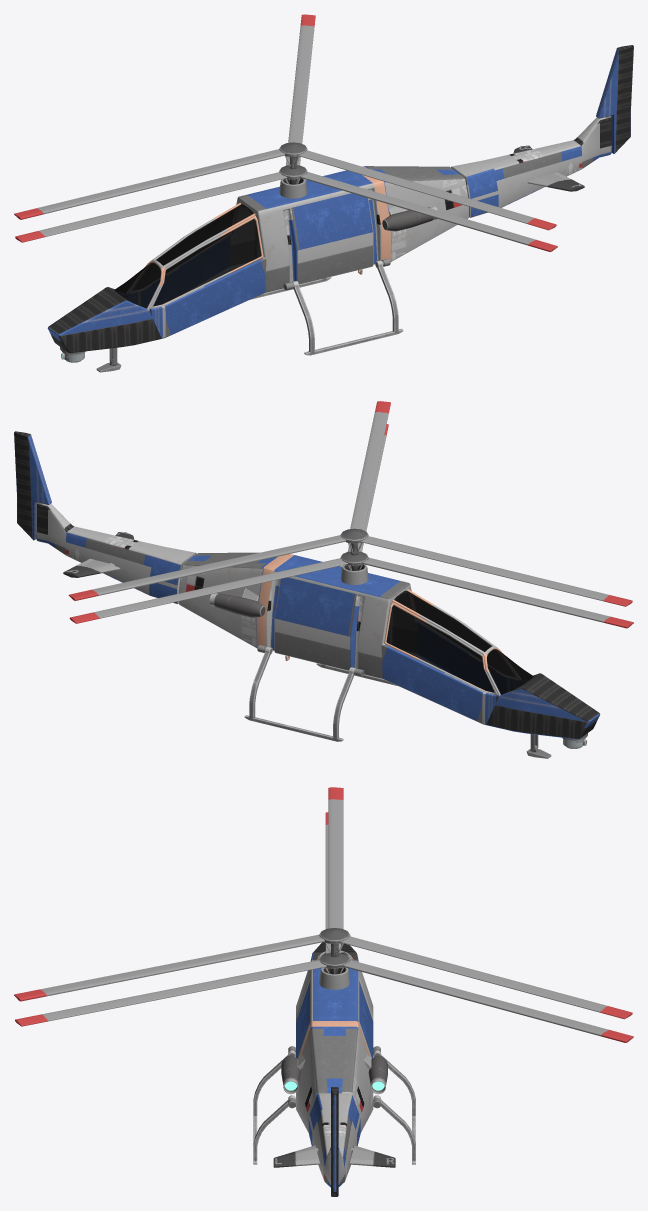
Rendered from ScoutHeli.fbx.
The picture shows the model from 3 angles, top to bottom: view 1: azimuth 30°, elevation 25°; view 2: azimuth 150°, elevation 25°; view 3: azimuth 270°, elevation 25°; orthographic projection. The views are drawn at different scales.
Parts seen in each view (by area): view 1: Body, Blades, Tail, HatchGlass, WindowGlass, TailPiece, LandingGearSide, WindowSupport, HatchSupport, Thrusters, BladeHolder, TailWings; view 2: Body, Blades, Tail, HatchGlass, WindowGlass, TailPiece, LandingGearSide, Thrusters, HatchSupport, WindowSupport, BladeHolder, TailWings; view 3: Blades, Body, Tail, LandingGearSide, TailWings, Thrusters, BladeHolder, TailPiece, BladeHolderRoot.
Part boxes in pixels (x1,y1,x2,y2): Body: [47, 166, 468, 353]; Blades: [14, 14, 557, 251]; Tail: [451, 116, 611, 217]; HatchGlass: [153, 219, 261, 306]; WindowGlass: [114, 204, 253, 308]; TailPiece: [596, 45, 633, 153]; LandingGearSide: [250, 260, 403, 355]; WindowSupport: [127, 203, 255, 309]; HatchSupport: [130, 209, 263, 308]; Thrusters: [382, 206, 437, 231]; BladeHolder: [279, 142, 307, 184]; TailWings: [513, 145, 584, 191]; Body: [179, 552, 600, 739]; Blades: [68, 401, 633, 628]; Tail: [36, 502, 196, 604]; HatchGlass: [386, 605, 494, 692]; WindowGlass: [394, 590, 533, 694]; TailPiece: [14, 431, 51, 540]; LandingGearSide: [244, 646, 397, 741]; Thrusters: [209, 588, 265, 617]; HatchSupport: [384, 595, 517, 694]; WindowSupport: [392, 589, 520, 695]; BladeHolder: [340, 528, 368, 570]; TailWings: [63, 532, 134, 577]; Blades: [14, 787, 633, 1042]; Body: [296, 942, 373, 1132]; Tail: [308, 1093, 360, 1187]; LandingGearSide: [253, 1050, 415, 1164]; TailWings: [273, 1145, 395, 1167]; Thrusters: [281, 1055, 387, 1094]; BladeHolder: [319, 928, 350, 974]; TailPiece: [331, 1087, 338, 1196]; BladeHolderRoot: [319, 967, 350, 989].
Bounding box in the file's own units: 2019 × 613 × 1602.
